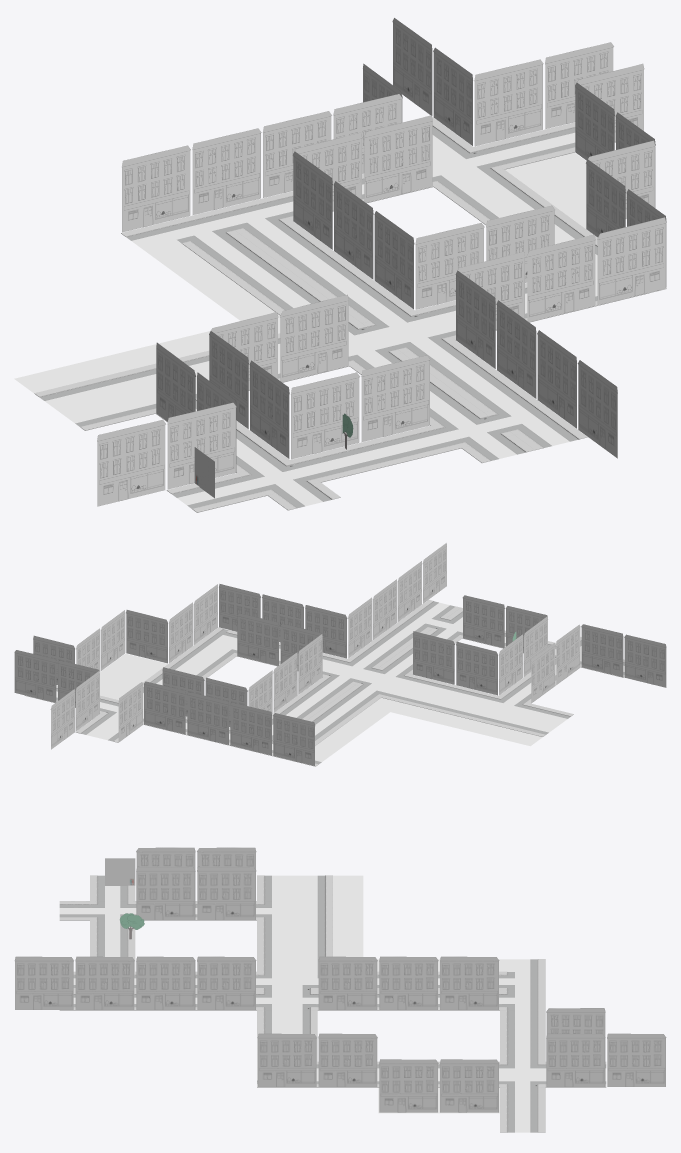
File: 170626_planung_raum_BK.fbx
The picture shows the model from 3 angles, top to bottom: view 1: azimuth 30°, elevation 25°; view 2: azimuth 150°, elevation 25°; view 3: azimuth 270°, elevation 25°; orthographic projection. The views are drawn at different scales.
Parts seen in each view (by area): view 1: House_upper_29, House_upper_36, House_upper_37, House_upper_24, House_upper_8, House_upper_28, House_upper_9, House_upper_33, House_upper_22, House_upper_34, House_upper_35, House_upper_26 (+28 smaller); view 2: House_upper_36, House_upper_35, House_upper_7, House_upper_11, House_upper_33, House_upper_10, House_upper_9, House_upper_8, House_upper_25, House_upper_16, House_upper_38, House_upper_37 (+27 smaller); view 3: House_upper_21, House_upper_5, House_upper_3, House_upper_23, House_upper_17, House_upper_15, House_upper_14, House_upper_1, House_upper_20, House_upper_4, House_upper_19, House_upper_2 (+7 smaller).
Boxes of the visible parts, x1=… form: House_upper_29: x1=526, y1=234, x2=595, y2=321; House_upper_36: x1=97, y1=419, x2=165, y2=506; House_upper_37: x1=280, y1=294, x2=348, y2=381; House_upper_24: x1=474, y1=59, x2=543, y2=146; House_upper_8: x1=122, y1=145, x2=190, y2=232; House_upper_28: x1=597, y1=217, x2=666, y2=304; House_upper_9: x1=192, y1=128, x2=261, y2=214; House_upper_33: x1=361, y1=355, x2=430, y2=441; House_upper_22: x1=363, y1=115, x2=432, y2=202; House_upper_34: x1=291, y1=372, x2=359, y2=459; House_upper_35: x1=167, y1=402, x2=236, y2=489; House_upper_26: x1=415, y1=223, x2=484, y2=309; House_upper_36: x1=624, y1=634, x2=666, y2=687; House_upper_35: x1=581, y1=624, x2=623, y2=677; House_upper_7: x1=14, y1=650, x2=56, y2=702; House_upper_11: x1=144, y1=681, x2=185, y2=734; House_upper_33: x1=462, y1=595, x2=504, y2=647; House_upper_10: x1=187, y1=692, x2=228, y2=744; House_upper_9: x1=230, y1=702, x2=271, y2=755; House_upper_8: x1=273, y1=713, x2=315, y2=765; House_upper_25: x1=237, y1=613, x2=279, y2=665; House_upper_16: x1=126, y1=610, x2=167, y2=663; House_upper_38: x1=456, y1=641, x2=497, y2=695; House_upper_37: x1=413, y1=631, x2=454, y2=684; House_upper_21: x1=318, y1=956, x2=377, y2=1009; House_upper_5: x1=136, y1=956, x2=195, y2=1009; House_upper_3: x1=75, y1=956, x2=134, y2=1009; House_upper_23: x1=546, y1=1033, x2=605, y2=1086; House_upper_17: x1=318, y1=1033, x2=377, y2=1086; House_upper_15: x1=379, y1=1059, x2=438, y2=1112; House_upper_14: x1=440, y1=1059, x2=499, y2=1112; House_upper_1: x1=136, y1=866, x2=195, y2=919; House_upper_20: x1=379, y1=956, x2=438, y2=1009; House_upper_4: x1=197, y1=956, x2=256, y2=1009; House_upper_19: x1=440, y1=956, x2=499, y2=1009; House_upper_2: x1=14, y1=956, x2=73, y2=1009.
Size of the model in its own units: 1800 by 160 by 1720.
12 materials, 11 textured.
